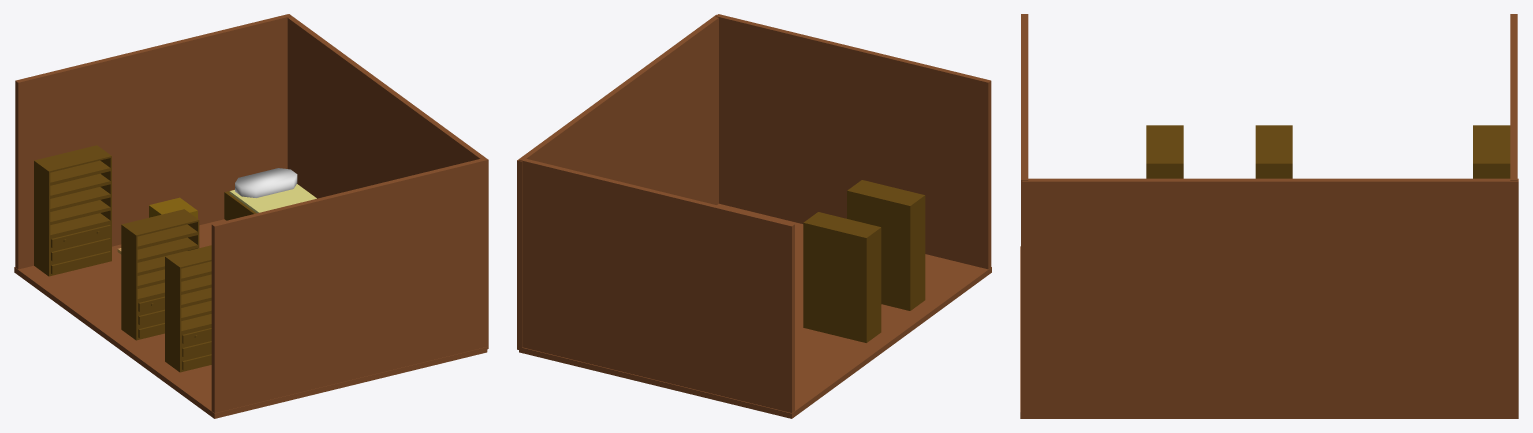
Rendered from lxyr.glb.
3 renders of one model, left to right at view 1: azimuth 30°, elevation 25°; view 2: azimuth 150°, elevation 25°; view 3: azimuth 270°, elevation 25°, orthographic. The views are drawn at different scales.
Visible parts, largest first — view 1: wall, wall.001, wall.002, floor, 立方体.003, 立方体.004, 立方体.005, 立方体.007, 立方体.006, 立方体.001, 立方体; view 2: wall.001, wall, wall.002, floor, 立方体.004, 立方体.005; view 3: wall.002, 立方体.003, 立方体.004, 立方体.005, wall, wall.001, floor.
Boxes of the visible parts, x1,y1,x2,y2 form: wall: (211, 158, 487, 413); wall.001: (15, 14, 290, 269); wall.002: (287, 14, 488, 348); floor: (14, 219, 487, 418); 立方体.003: (34, 145, 111, 276); 立方体.004: (121, 209, 199, 340); 立方体.005: (165, 245, 211, 372); 立方体.007: (235, 168, 297, 197); 立方体.006: (229, 184, 316, 213); 立方体.001: (149, 197, 197, 218); 立方体: (224, 191, 256, 220); wall.001: (519, 157, 794, 412); wall: (715, 14, 991, 269); wall.002: (517, 14, 718, 349); floor: (519, 203, 991, 418); 立方体.004: (803, 212, 881, 342); 立方体.005: (847, 180, 925, 310); wall.002: (1022, 178, 1518, 417); 立方体.003: (1473, 125, 1510, 178); 立方体.004: (1255, 125, 1292, 178); 立方体.005: (1146, 125, 1183, 178); wall: (1021, 14, 1028, 415); wall.001: (1510, 14, 1517, 180); floor: (1020, 246, 1518, 418).
Size of the model in its own units: 5.74 by 3.83 by 7.23.
Materials: 6 (1 with a texture image).
